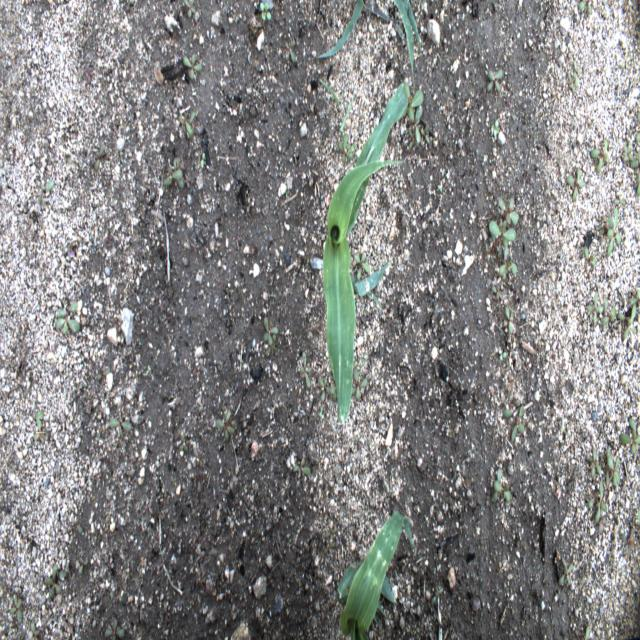crop: (323, 84, 409, 420), (336, 512, 417, 639), (317, 0, 403, 59), (392, 0, 423, 87)
weed: (488, 219, 515, 252), (54, 302, 80, 336), (587, 480, 607, 524), (498, 241, 518, 282), (618, 416, 639, 455), (588, 137, 609, 175), (339, 96, 353, 151), (497, 195, 520, 228), (404, 82, 423, 121), (620, 302, 638, 341), (215, 406, 235, 441), (606, 206, 620, 256), (510, 400, 526, 442), (163, 156, 184, 188), (348, 370, 368, 402), (566, 166, 584, 201), (319, 79, 340, 108), (178, 108, 196, 140), (338, 132, 356, 163), (49, 564, 66, 596), (38, 178, 56, 208), (587, 291, 603, 324), (182, 54, 203, 79), (110, 418, 132, 440), (557, 559, 574, 587), (493, 479, 512, 504), (300, 349, 312, 388), (354, 251, 370, 280), (600, 297, 616, 326), (412, 102, 423, 144), (588, 445, 602, 478), (263, 316, 278, 346), (9, 593, 23, 625), (105, 616, 124, 639), (608, 455, 622, 486), (33, 411, 46, 442), (487, 67, 503, 92), (264, 332, 279, 358), (622, 526, 634, 558), (492, 467, 502, 505), (292, 457, 311, 477), (318, 377, 330, 404), (596, 216, 614, 234), (94, 143, 106, 169), (503, 306, 514, 334), (582, 246, 596, 266), (622, 139, 634, 162), (181, 0, 196, 18), (502, 405, 521, 419), (605, 448, 611, 489), (420, 122, 430, 146), (70, 514, 82, 534), (616, 309, 634, 322), (408, 128, 419, 149), (261, 1, 272, 22), (286, 41, 296, 64), (95, 368, 110, 383), (573, 61, 581, 88), (568, 68, 576, 95), (578, 1, 592, 16), (432, 588, 444, 605), (179, 432, 189, 452), (78, 556, 88, 576), (328, 385, 338, 404), (630, 149, 639, 168), (30, 620, 39, 638), (492, 118, 500, 137), (631, 288, 639, 306), (634, 507, 640, 527), (199, 153, 205, 169), (636, 172, 640, 196), (614, 199, 626, 206), (585, 624, 589, 640), (636, 130, 640, 142), (636, 111, 639, 121)
